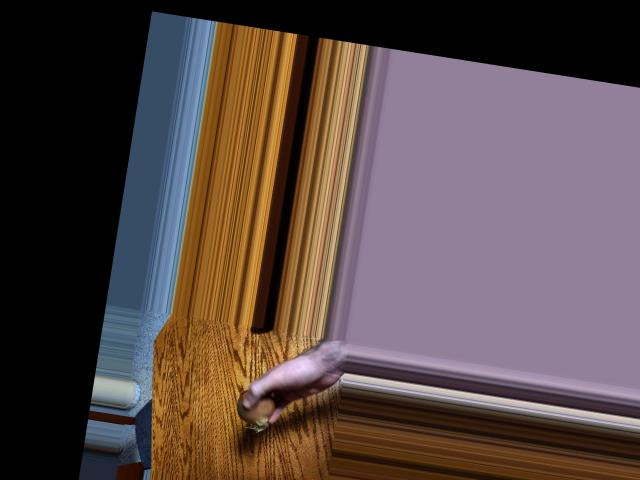onion: (237, 389, 271, 423)
